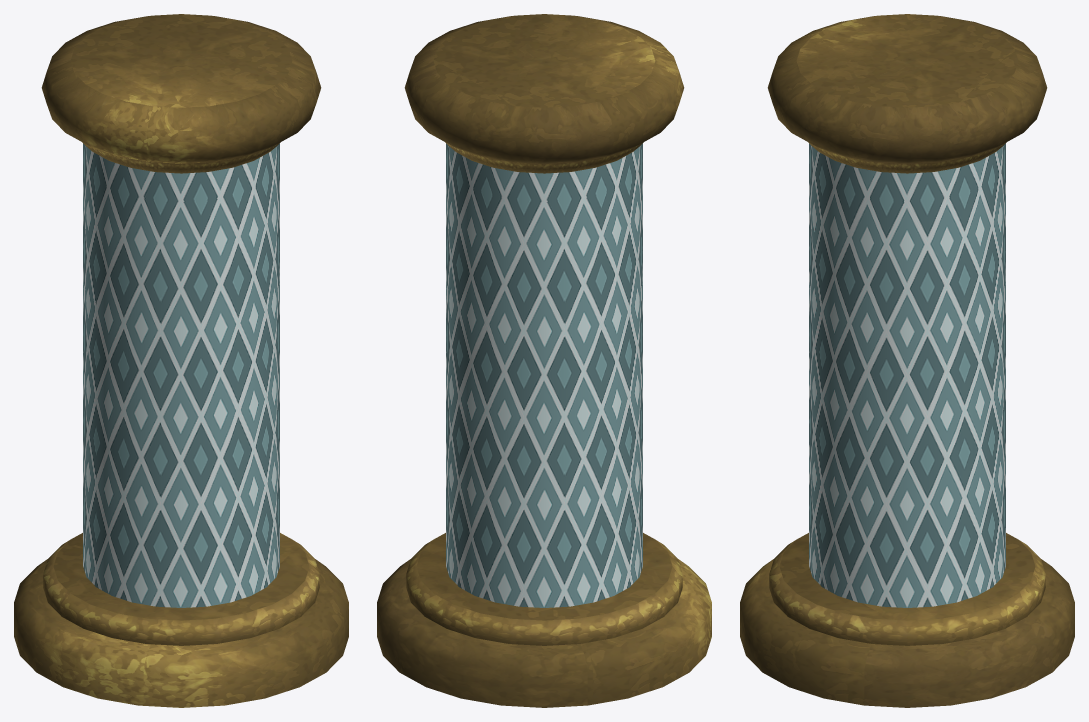
Rendered from DI_010_pillar_var03.glb.
3 renders of one model, left to right at view 1: azimuth 30°, elevation 25°; view 2: azimuth 150°, elevation 25°; view 3: azimuth 270°, elevation 25°, orthographic.
Parts seen in each view (by area): view 1: Pillar.006, Stands.003; view 2: Pillar.006, Stands.003; view 3: Pillar.006, Stands.003.
Boxes of the visible parts, bbox=[...] form: Pillar.006: bbox=[83, 143, 279, 607]; Stands.003: bbox=[14, 14, 348, 707]; Pillar.006: bbox=[446, 143, 642, 607]; Stands.003: bbox=[377, 14, 711, 707]; Pillar.006: bbox=[809, 143, 1005, 607]; Stands.003: bbox=[740, 14, 1074, 707].
Bounding box in the file's own units: 0.7735 × 1.47 × 0.7735.
2 materials, 2 textured.
